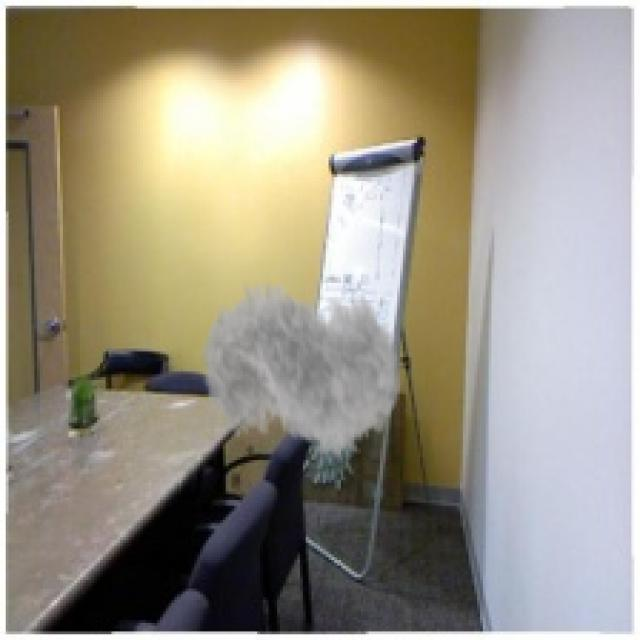smoke: (200, 257, 403, 474)
